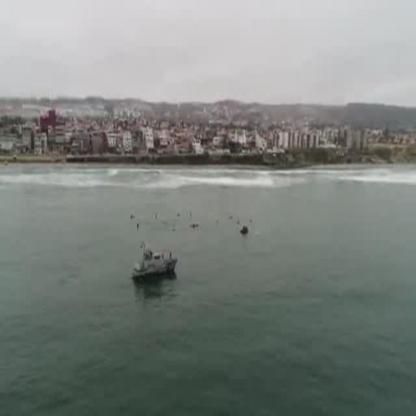Boat: (129, 238, 176, 285)
